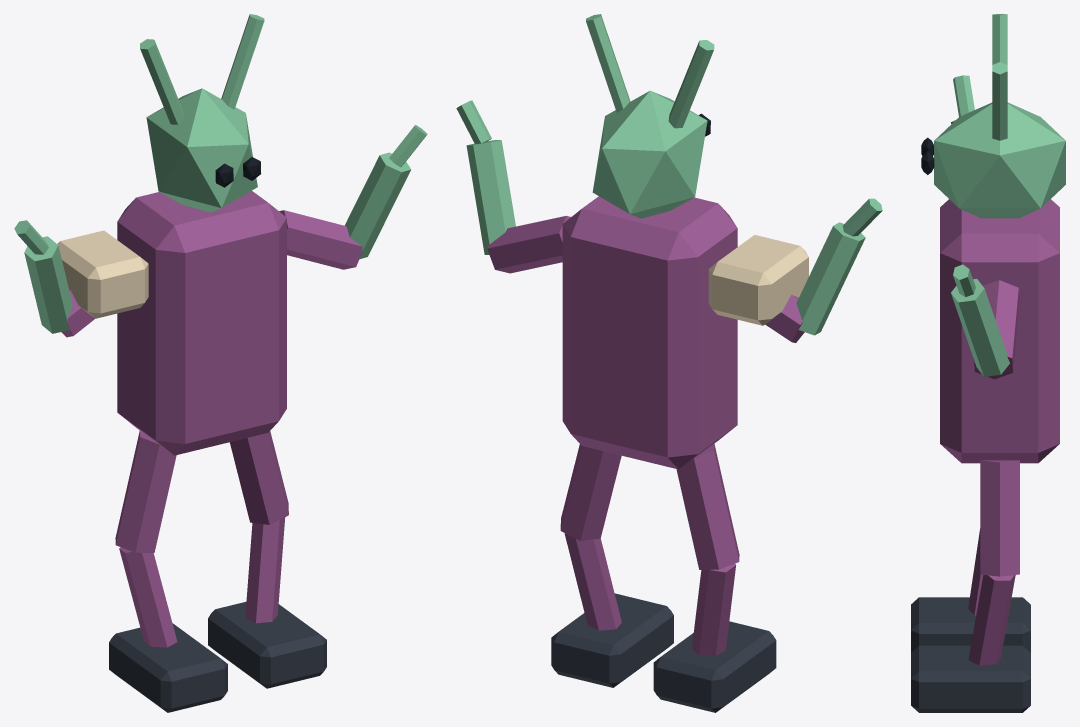
The model's file is npcs_040_seed11.glb.
The picture shows the model from 3 angles, left to right: view 1: azimuth 30°, elevation 25°; view 2: azimuth 150°, elevation 25°; view 3: azimuth 270°, elevation 25°; orthographic projection. The views are drawn at different scales.
Visible parts, largest first — view 1: npcs_040_seed11; view 2: npcs_040_seed11; view 3: npcs_040_seed11.
Boxes of the visible parts, left/top/right/bottom form: npcs_040_seed11: left=14, top=14, right=427, bottom=712; npcs_040_seed11: left=456, top=14, right=882, bottom=712; npcs_040_seed11: left=911, top=14, right=1065, bottom=712.
Bounding box in the file's own units: 1.47 × 2.17 × 0.4794.
